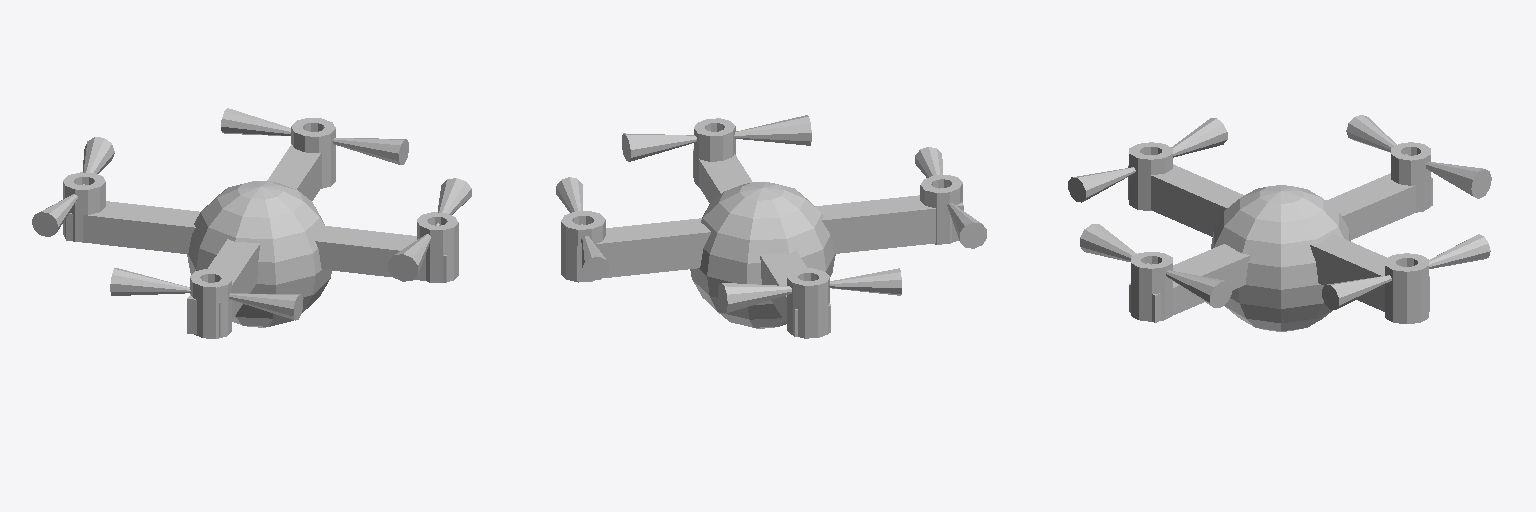
File: drone_obj.obj
3 renders of one model, left to right at view 1: azimuth 30°, elevation 25°; view 2: azimuth 150°, elevation 25°; view 3: azimuth 270°, elevation 25°, orthographic.
Visible parts, largest first — view 1: 011_Sphere, 012_Box_1, 014_Box, 007_Tube_2, 009_Tube_3, 010_Tube, 008_Tube_1, 003_Cone_4, 005_Cone_1, 002_Cone_5, 006_Cone, 013_Cone_2 (+3 smaller); view 2: 011_Sphere, 014_Box, 012_Box_1, 008_Tube_1, 010_Tube, 007_Tube_2, 009_Tube_3, 013_Cone_2, 000_Cone_7, 004_Cone_3, 001_Cone_6, 003_Cone_4 (+3 smaller); view 3: 011_Sphere, 014_Box, 012_Box_1, 010_Tube, 009_Tube_3, 007_Tube_2, 008_Tube_1, 000_Cone_7, 004_Cone_3, 005_Cone_1, 013_Cone_2, 002_Cone_5 (+3 smaller).
Part boxes in pixels (left/top/right/bottom): 011_Sphere: left=187, top=181, right=331, bottom=327; 012_Box_1: left=66, top=201, right=446, bottom=282; 014_Box: left=187, top=144, right=321, bottom=336; 007_Tube_2: left=190, top=269, right=231, bottom=338; 009_Tube_3: left=417, top=212, right=458, bottom=282; 010_Tube: left=291, top=118, right=335, bottom=188; 008_Tube_1: left=63, top=172, right=105, bottom=242; 003_Cone_4: left=110, top=268, right=190, bottom=295; 005_Cone_1: left=333, top=138, right=408, bottom=164; 002_Cone_5: left=229, top=293, right=303, bottom=320; 006_Cone: left=221, top=108, right=290, bottom=135; 013_Cone_2: left=388, top=234, right=430, bottom=281; 011_Sphere: left=690, top=182, right=835, bottom=328; 014_Box: left=576, top=195, right=963, bottom=280; 012_Box_1: left=693, top=149, right=830, bottom=336; 008_Tube_1: left=787, top=268, right=829, bottom=338; 010_Tube: left=561, top=211, right=605, bottom=282; 007_Tube_2: left=920, top=175, right=962, bottom=244; 009_Tube_3: left=694, top=118, right=735, bottom=186; 013_Cone_2: left=734, top=115, right=811, bottom=145; 000_Cone_7: left=718, top=283, right=791, bottom=313; 004_Cone_3: left=622, top=133, right=696, bottom=161; 001_Cone_6: left=829, top=268, right=901, bottom=295; 003_Cone_4: left=947, top=203, right=986, bottom=248; 011_Sphere: left=1211, top=185, right=1350, bottom=331; 014_Box: left=1128, top=164, right=1429, bottom=311; 012_Box_1: left=1129, top=173, right=1432, bottom=322; 010_Tube: left=1385, top=253, right=1428, bottom=323; 009_Tube_3: left=1131, top=252, right=1172, bottom=321; 007_Tube_2: left=1129, top=142, right=1172, bottom=210; 008_Tube_1: left=1391, top=142, right=1430, bottom=212; 000_Cone_7: left=1426, top=162, right=1491, bottom=198; 004_Cone_3: left=1166, top=270, right=1231, bottom=307; 005_Cone_1: left=1322, top=275, right=1391, bottom=309; 013_Cone_2: left=1080, top=224, right=1148, bottom=263; 002_Cone_5: left=1068, top=167, right=1135, bottom=202.
Size of the model in its own units: 284 by 100 by 285.